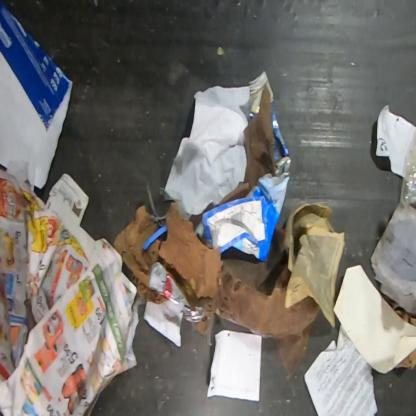cardboard: (202, 172, 290, 262)
metal: (249, 71, 292, 175)
rigid_plastic: (400, 127, 415, 206)
